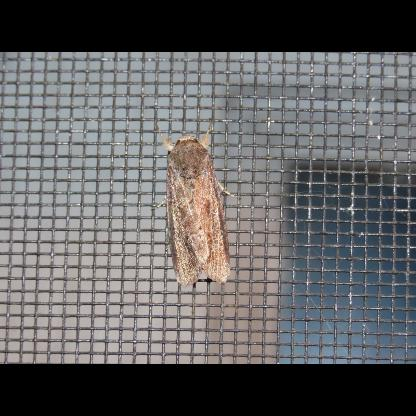Fall Armyworm Moth: (150, 116, 242, 290)
